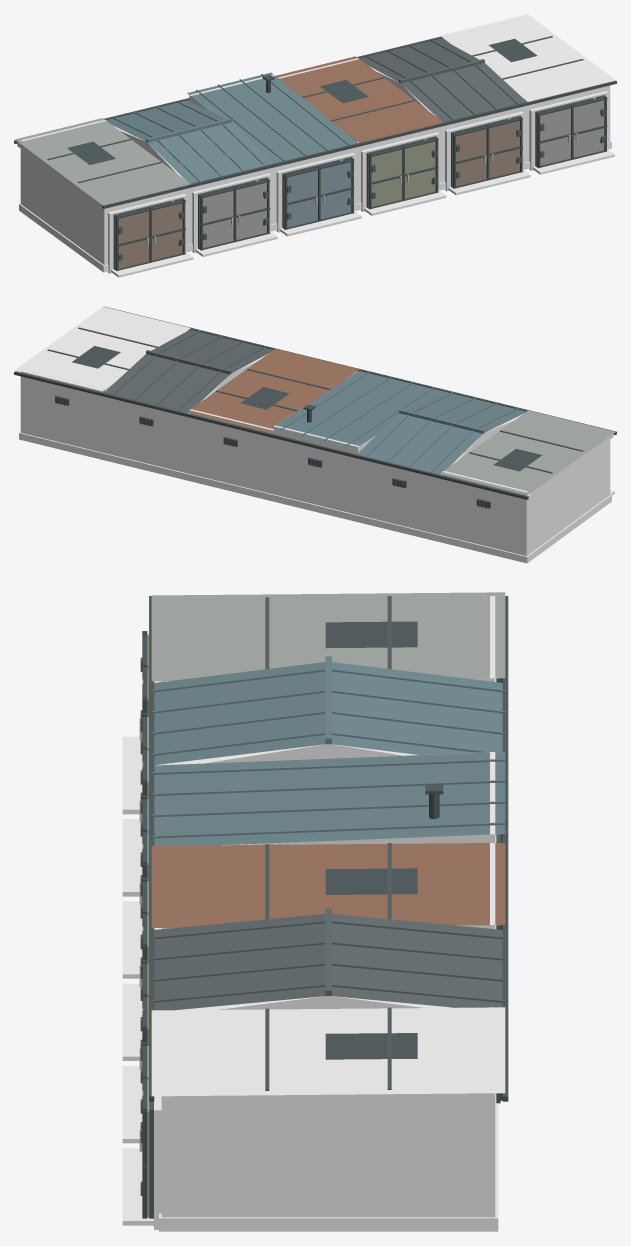
The model's file is frontier_garage_row_2.glb.
The picture shows the model from 3 angles, top to bottom: view 1: azimuth 30°, elevation 25°; view 2: azimuth 150°, elevation 25°; view 3: azimuth 270°, elevation 25°; orthographic projection. The views are drawn at different scales.
Parts seen in each view (by area): view 1: frontier_garage_row_2; view 2: frontier_garage_row_2; view 3: frontier_garage_row_2.
Boxes of the visible parts, x1,y1,x2,y2 form: frontier_garage_row_2: (14, 14, 616, 277); frontier_garage_row_2: (14, 306, 616, 563); frontier_garage_row_2: (122, 592, 508, 1231).
Size of the model in its own units: 21.3 by 3.55 by 6.93.
